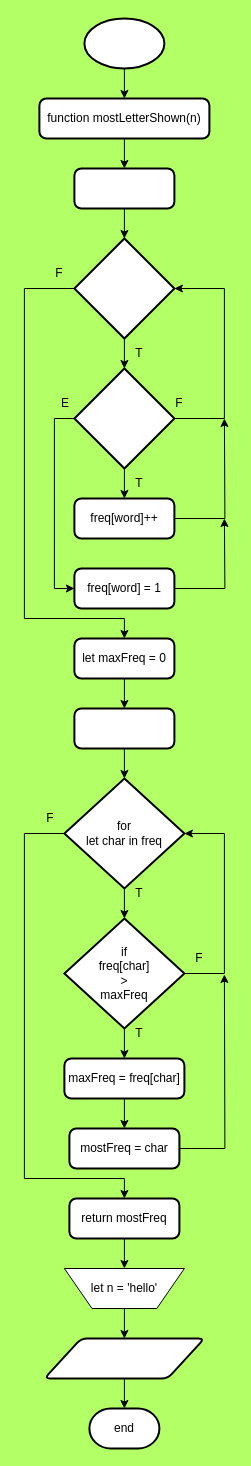
Image size: 251x1466. Some labels were removed from this diagram. Each missing label, with the centre of its shape:
"for let word of n" belongs at pixel 124 288.
"if freq[word]" belongs at pixel 124 418.
"let freq = { }" belongs at pixel 124 188.
"let mostFreq = ' '" belongs at pixel 124 728.
"mostLetterShown(n)" belongs at pixel 124 1358.
"start" belongs at pixel 124 43.
